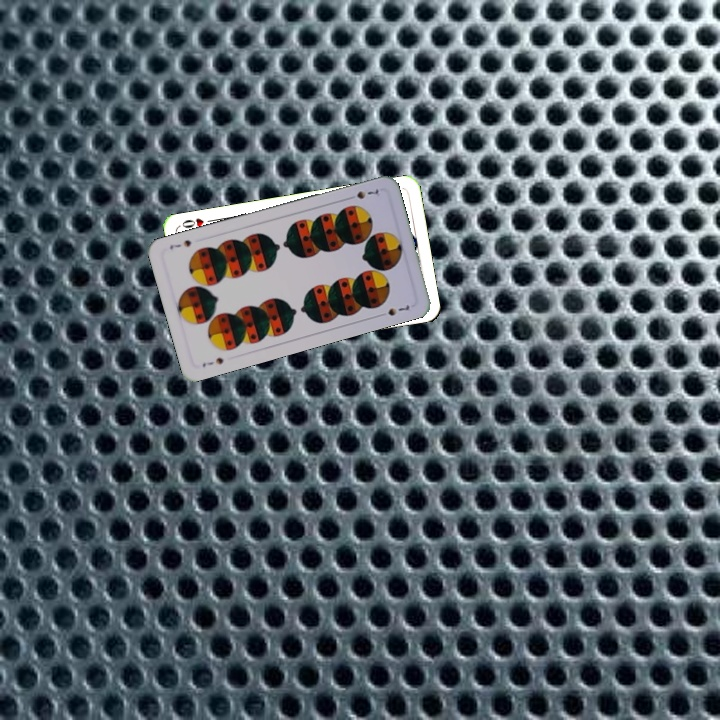S7: (343, 185, 381, 202), (198, 353, 226, 370)
